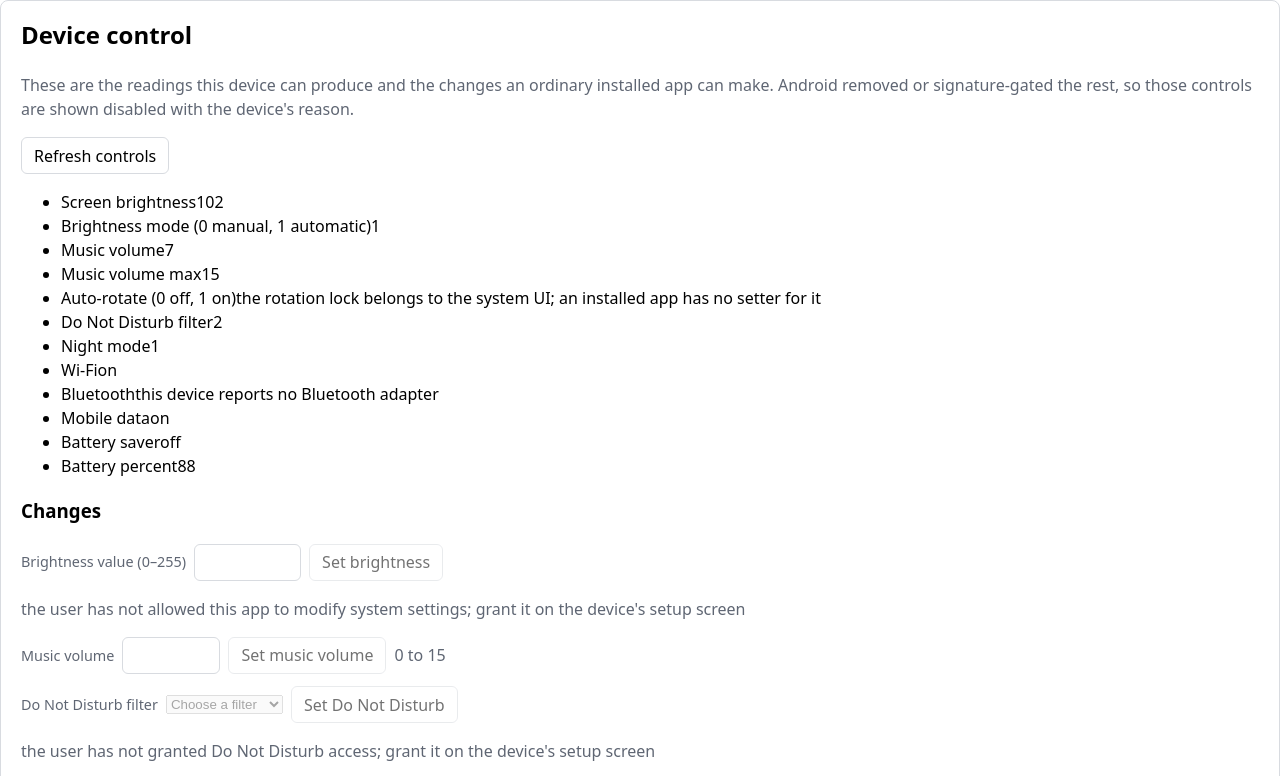
the control panel › explains an unconfirmed change and re-reads instead of keeping the old map
Expected: the list named "control readings" is shown, top-left (61, 191), bottom-right (821, 477)
Type "4" into the number field labelled "Music volume" at {"x": 171, "y": 655}, box top-left (122, 637), bottom-right (220, 674)
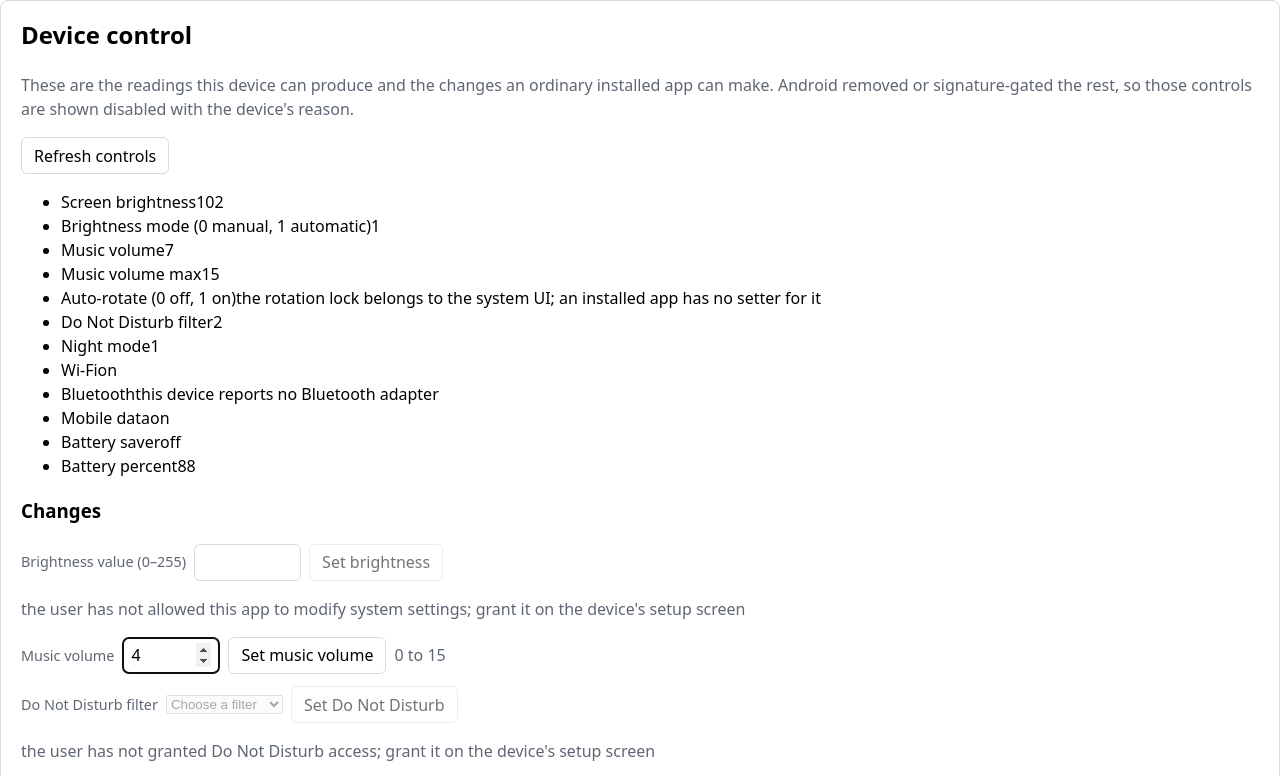
Click the button "Set music volume" at {"x": 307, "y": 655}, box top-left (228, 637), bottom-right (386, 674)
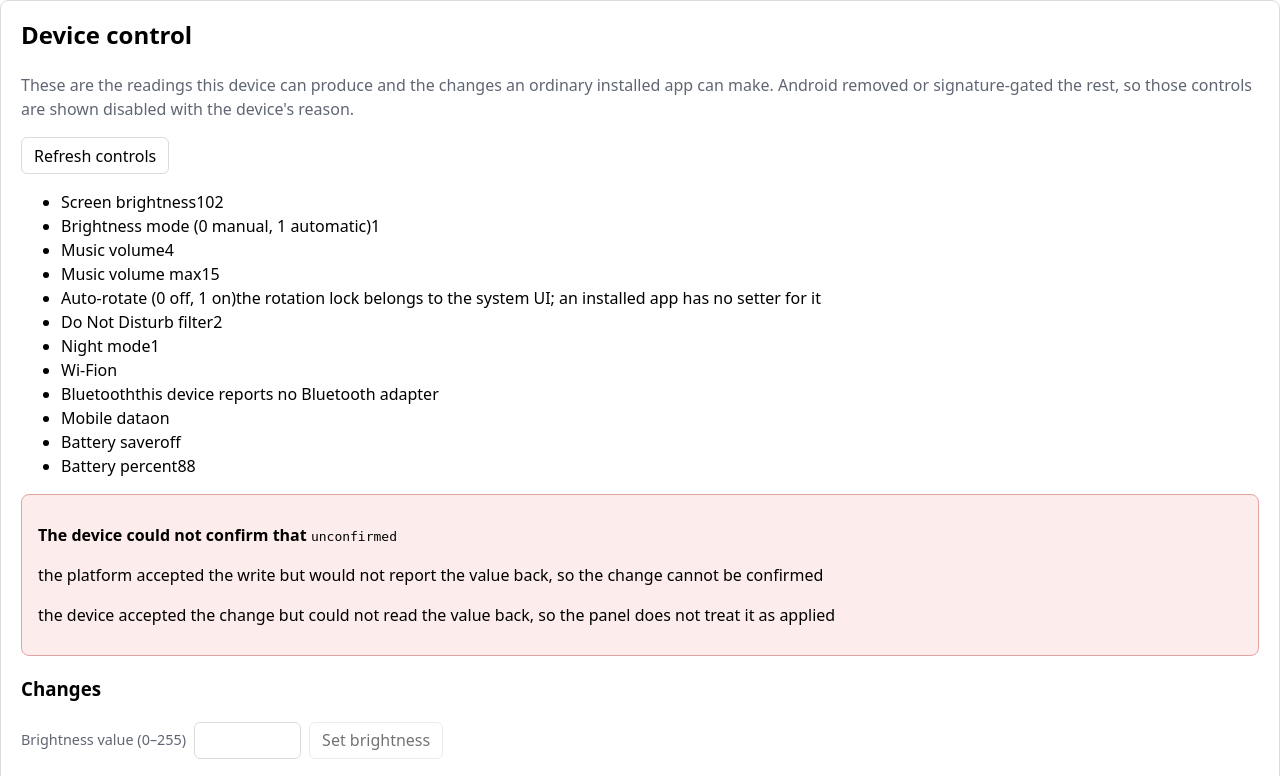
Expected: the message shows "unconfirmed", top-left (311, 529), bottom-right (397, 544)
Expected: the message shows "could not confirm that", top-left (38, 524), bottom-right (307, 546)
Expected: the text "4" is shown, top-left (165, 239), bottom-right (174, 261)
